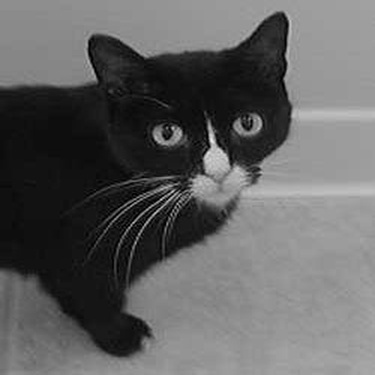cat: (1, 10, 293, 358)
